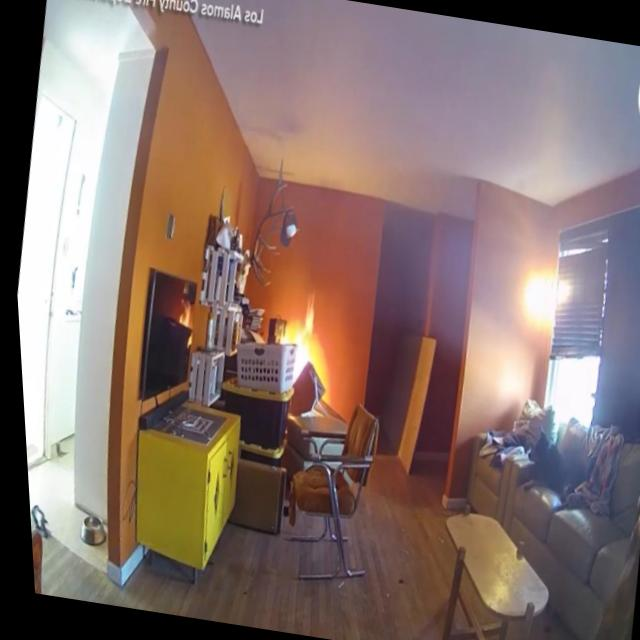fire: (268, 304, 338, 404)
